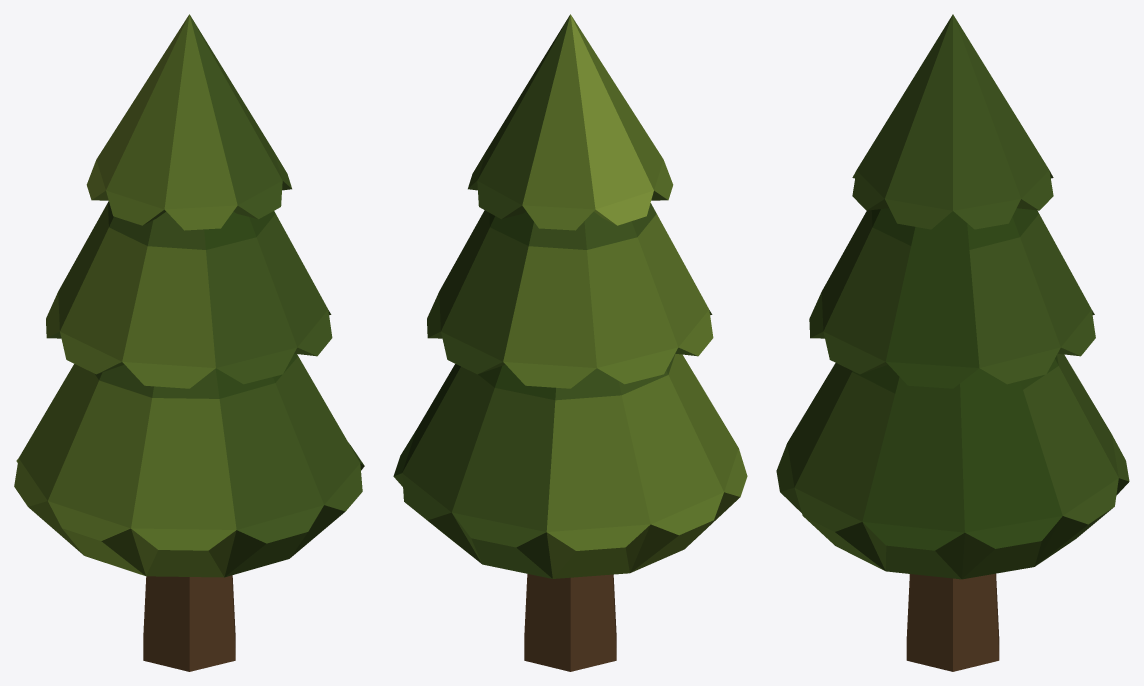
File: tree_pine.glb
3 renders of one model, left to right at view 1: azimuth 30°, elevation 25°; view 2: azimuth 150°, elevation 25°; view 3: azimuth 270°, elevation 25°, orthographic.
Visible parts, largest first — view 1: tree_pine; view 2: tree_pine; view 3: tree_pine.
Boxes of the visible parts, left/top/right/bottom form: tree_pine: left=14, top=14, right=364, bottom=671; tree_pine: left=393, top=14, right=747, bottom=671; tree_pine: left=776, top=14, right=1129, bottom=671.
Bounding box in the file's own units: 0.5274 × 1.05 × 0.5288.
